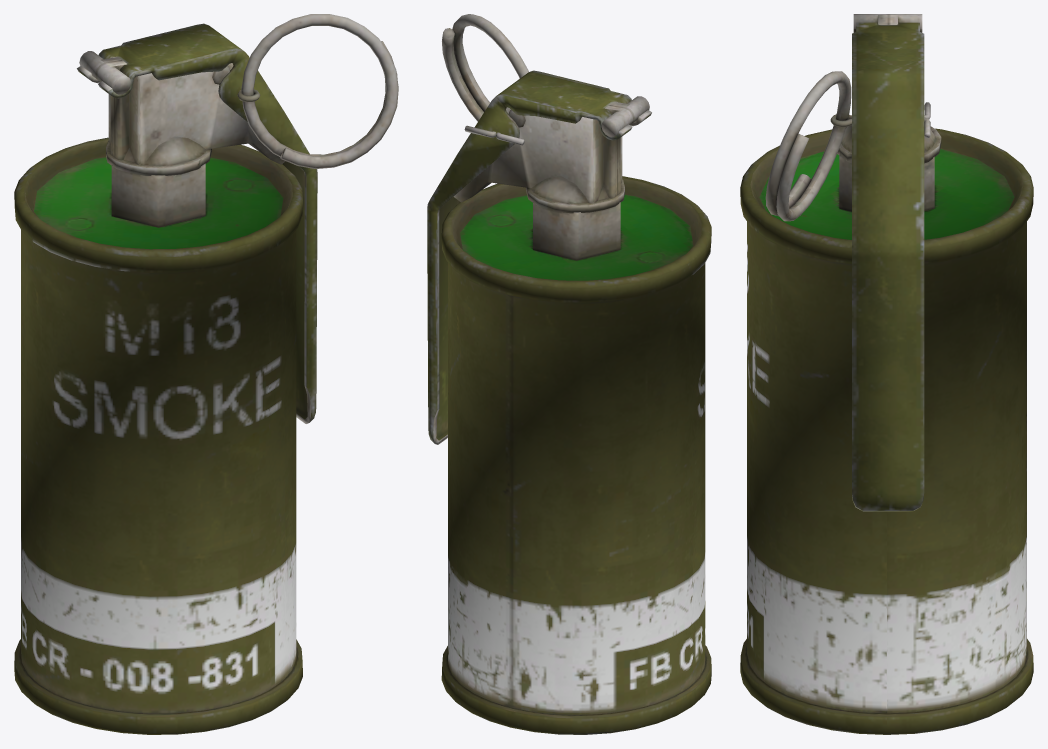
Rendered from PUBGsmoke_grenade.glb.
The picture shows the model from 3 angles, left to right: view 1: azimuth 30°, elevation 25°; view 2: azimuth 150°, elevation 25°; view 3: azimuth 270°, elevation 25°; orthographic projection. The views are drawn at different scales.
Visible parts, largest first — view 1: M18_Smoke; view 2: M18_Smoke; view 3: M18_Smoke.
Boxes of the visible parts, left/top/right/bottom form: M18_Smoke: left=14, top=14, right=398, bottom=734; M18_Smoke: left=427, top=14, right=711, bottom=734; M18_Smoke: left=740, top=14, right=1033, bottom=734.
Bounding box in the file's own units: 7.73 × 15.28 × 6.14.
Materials: 1 (1 with a texture image).
